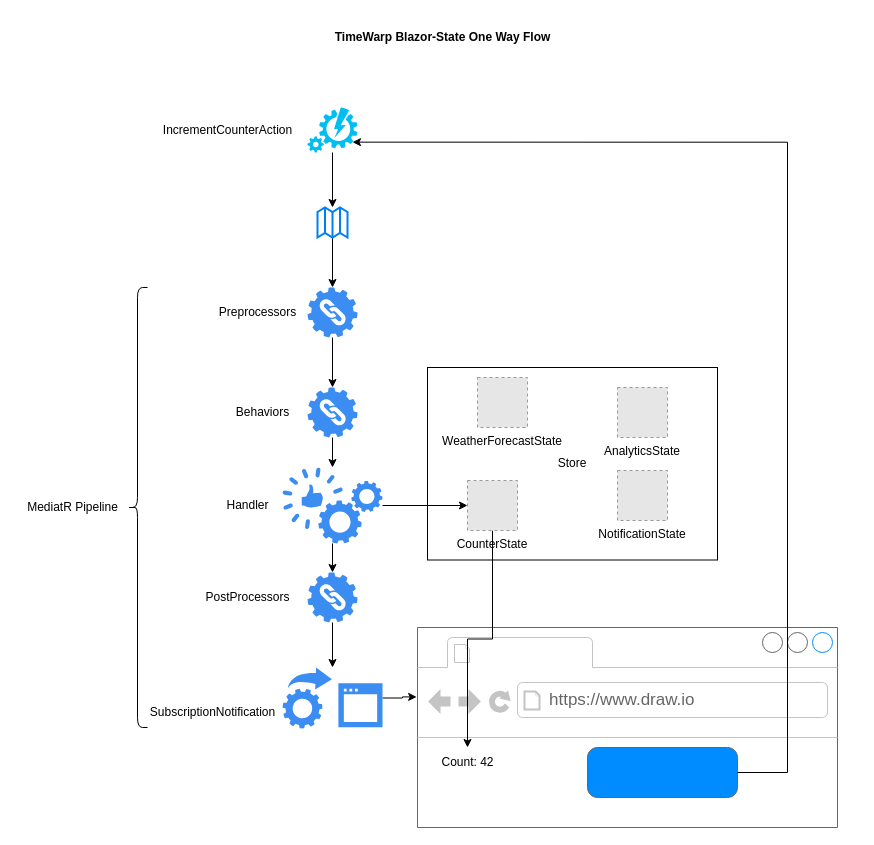
The diagram is 874 pixels wide and 845 high, and some of its shapes have lost their labels. Grey dashed boxes stand in for pictures. The centre of each missing label's shape, as x and y in pixels:
"Increment" belongs at point 662,772.
"Mediator" belongs at point 332,222.
"Page 1" belongs at point 532,652.
